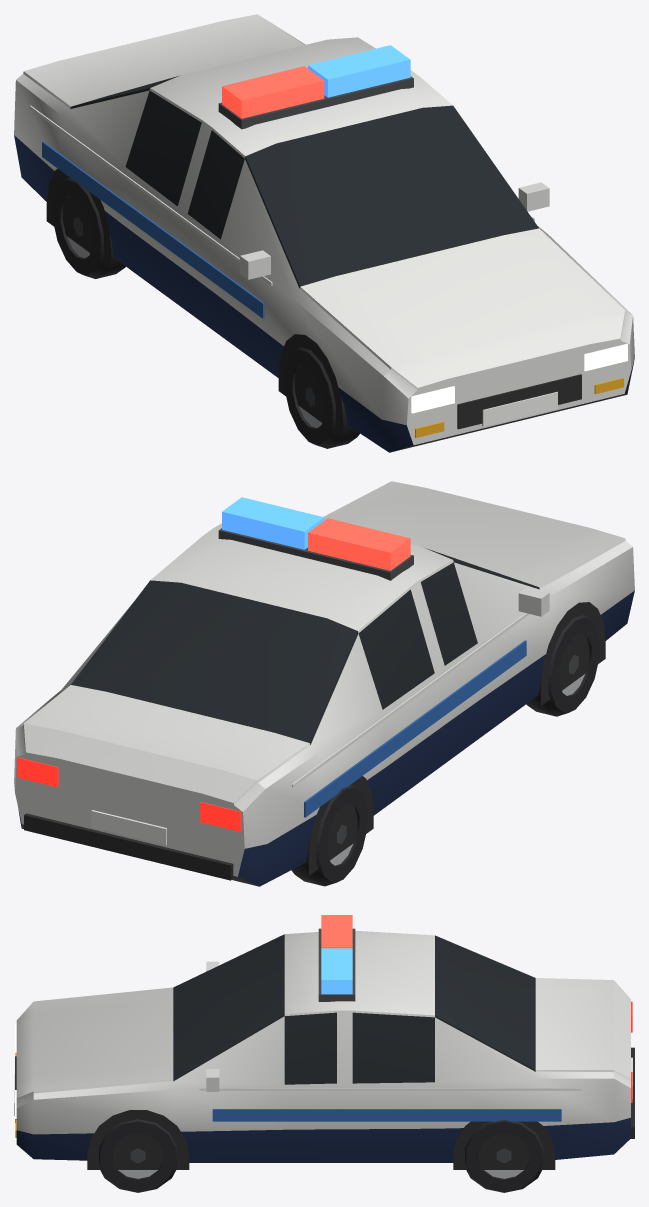
File: police.glb
3 renders of one model, top to bottom at view 1: azimuth 30°, elevation 25°; view 2: azimuth 150°, elevation 25°; view 3: azimuth 270°, elevation 25°, orthographic. The views are drawn at different scales.
Visible parts, largest first — view 1: sedan, Siren_0, Siren_1; view 2: sedan, Siren_0, Siren_1; view 3: sedan, Siren_1, Siren_0.
Boxes of the visible parts, x1,y1,x2,y2 form: sedan: (14,14,634,452); Siren_0: (222,66,324,118); Siren_1: (308,45,410,97); sedan: (14,481,634,886); Siren_0: (308,518,410,570); Siren_1: (222,497,324,549); sedan: (14,928,634,1192); Siren_1: (321,948,352,994); Siren_0: (321,915,352,948).
Size of the model in its own units: 0.126 by 0.0996 by 0.285.
